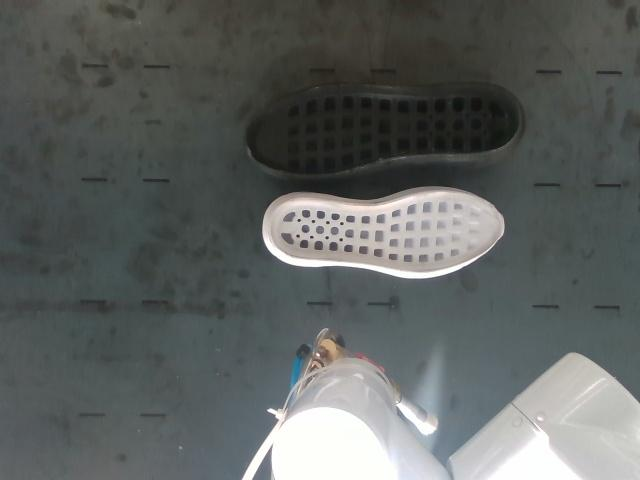shoes: (246, 85, 519, 175), (270, 191, 504, 272)
